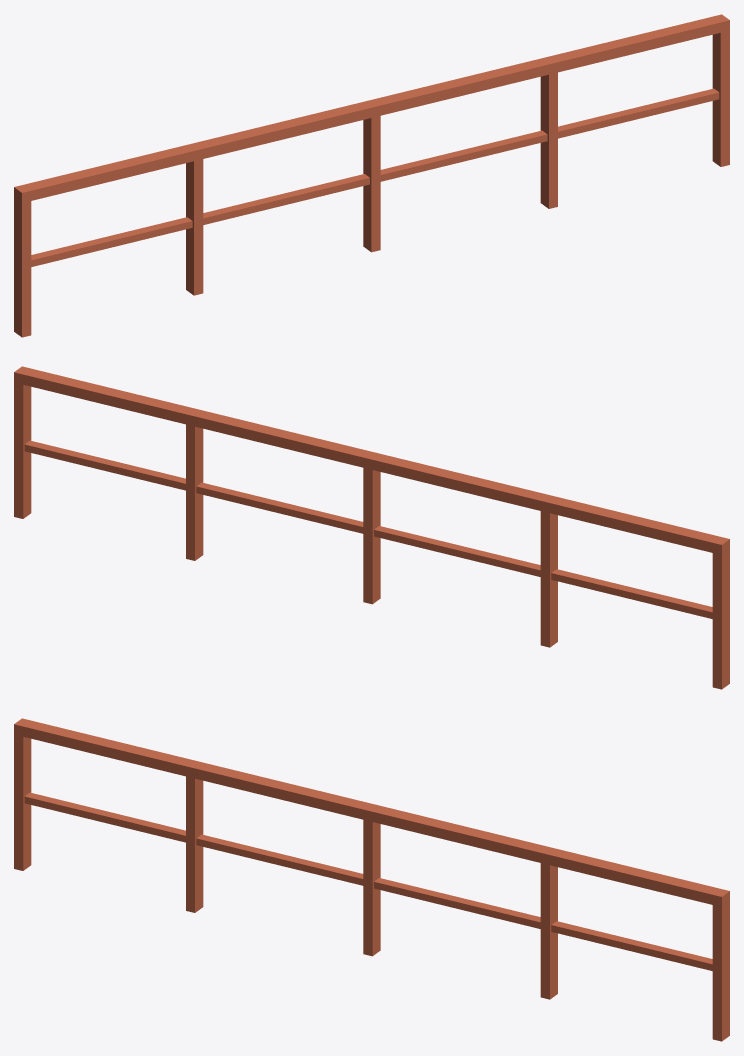
Rendered from Partitions_033.glb.
3 views of the same model, one above another, from view 1: azimuth 30°, elevation 25°; view 2: azimuth 150°, elevation 25°; view 3: azimuth 330°, elevation 25° (orthographic).
Visible parts, largest first — view 1: Partitions_033; view 2: Partitions_033; view 3: Partitions_033.
Part boxes in pixels (x1,y1,x2,y2): Partitions_033: (14, 14, 729, 337); Partitions_033: (14, 366, 729, 689); Partitions_033: (14, 718, 729, 1041).
Size of the model in its own units: 4 by 0.781 by 0.0793.
1 material, 1 textured.
